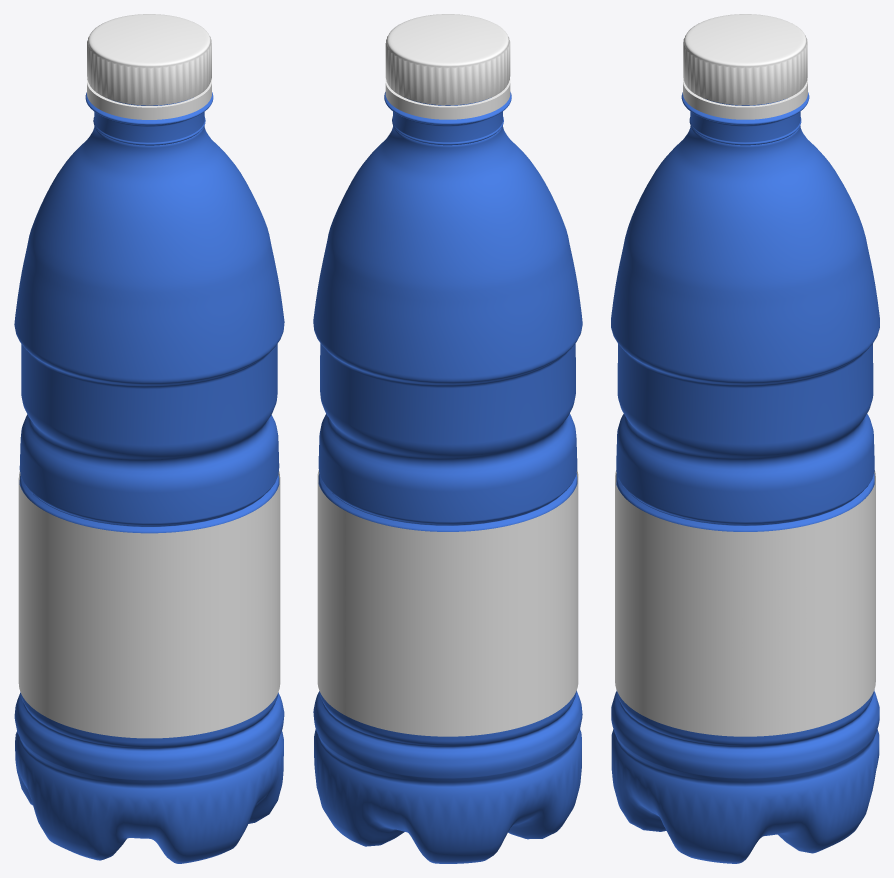
The model's file is Bottiglietta.fbx.
The picture shows the model from 3 angles, left to right: view 1: azimuth 30°, elevation 25°; view 2: azimuth 150°, elevation 25°; view 3: azimuth 270°, elevation 25°; orthographic projection.
Visible parts, largest first — view 1: Line005, Tube005, Cylinder002, Tube004; view 2: Line005, Tube005, Cylinder002, Tube004; view 3: Line005, Tube005, Cylinder002, Tube004.
Boxes of the visible parts, x1=… form: Line005: x1=14, y1=92, x2=284, y2=863; Tube005: x1=18, y1=471, x2=280, y2=738; Cylinder002: x1=87, y1=14, x2=211, y2=105; Tube004: x1=87, y1=79, x2=211, y2=119; Line005: x1=313, y1=92, x2=582, y2=863; Tube005: x1=317, y1=470, x2=578, y2=736; Cylinder002: x1=385, y1=14, x2=510, y2=105; Tube004: x1=385, y1=79, x2=510, y2=119; Line005: x1=611, y1=92, x2=879, y2=863; Tube005: x1=615, y1=470, x2=875, y2=736; Cylinder002: x1=683, y1=14, x2=807, y2=105; Tube004: x1=683, y1=78, x2=807, y2=119.
Size of the model in its own units: 8.92 by 28.71 by 8.9.
